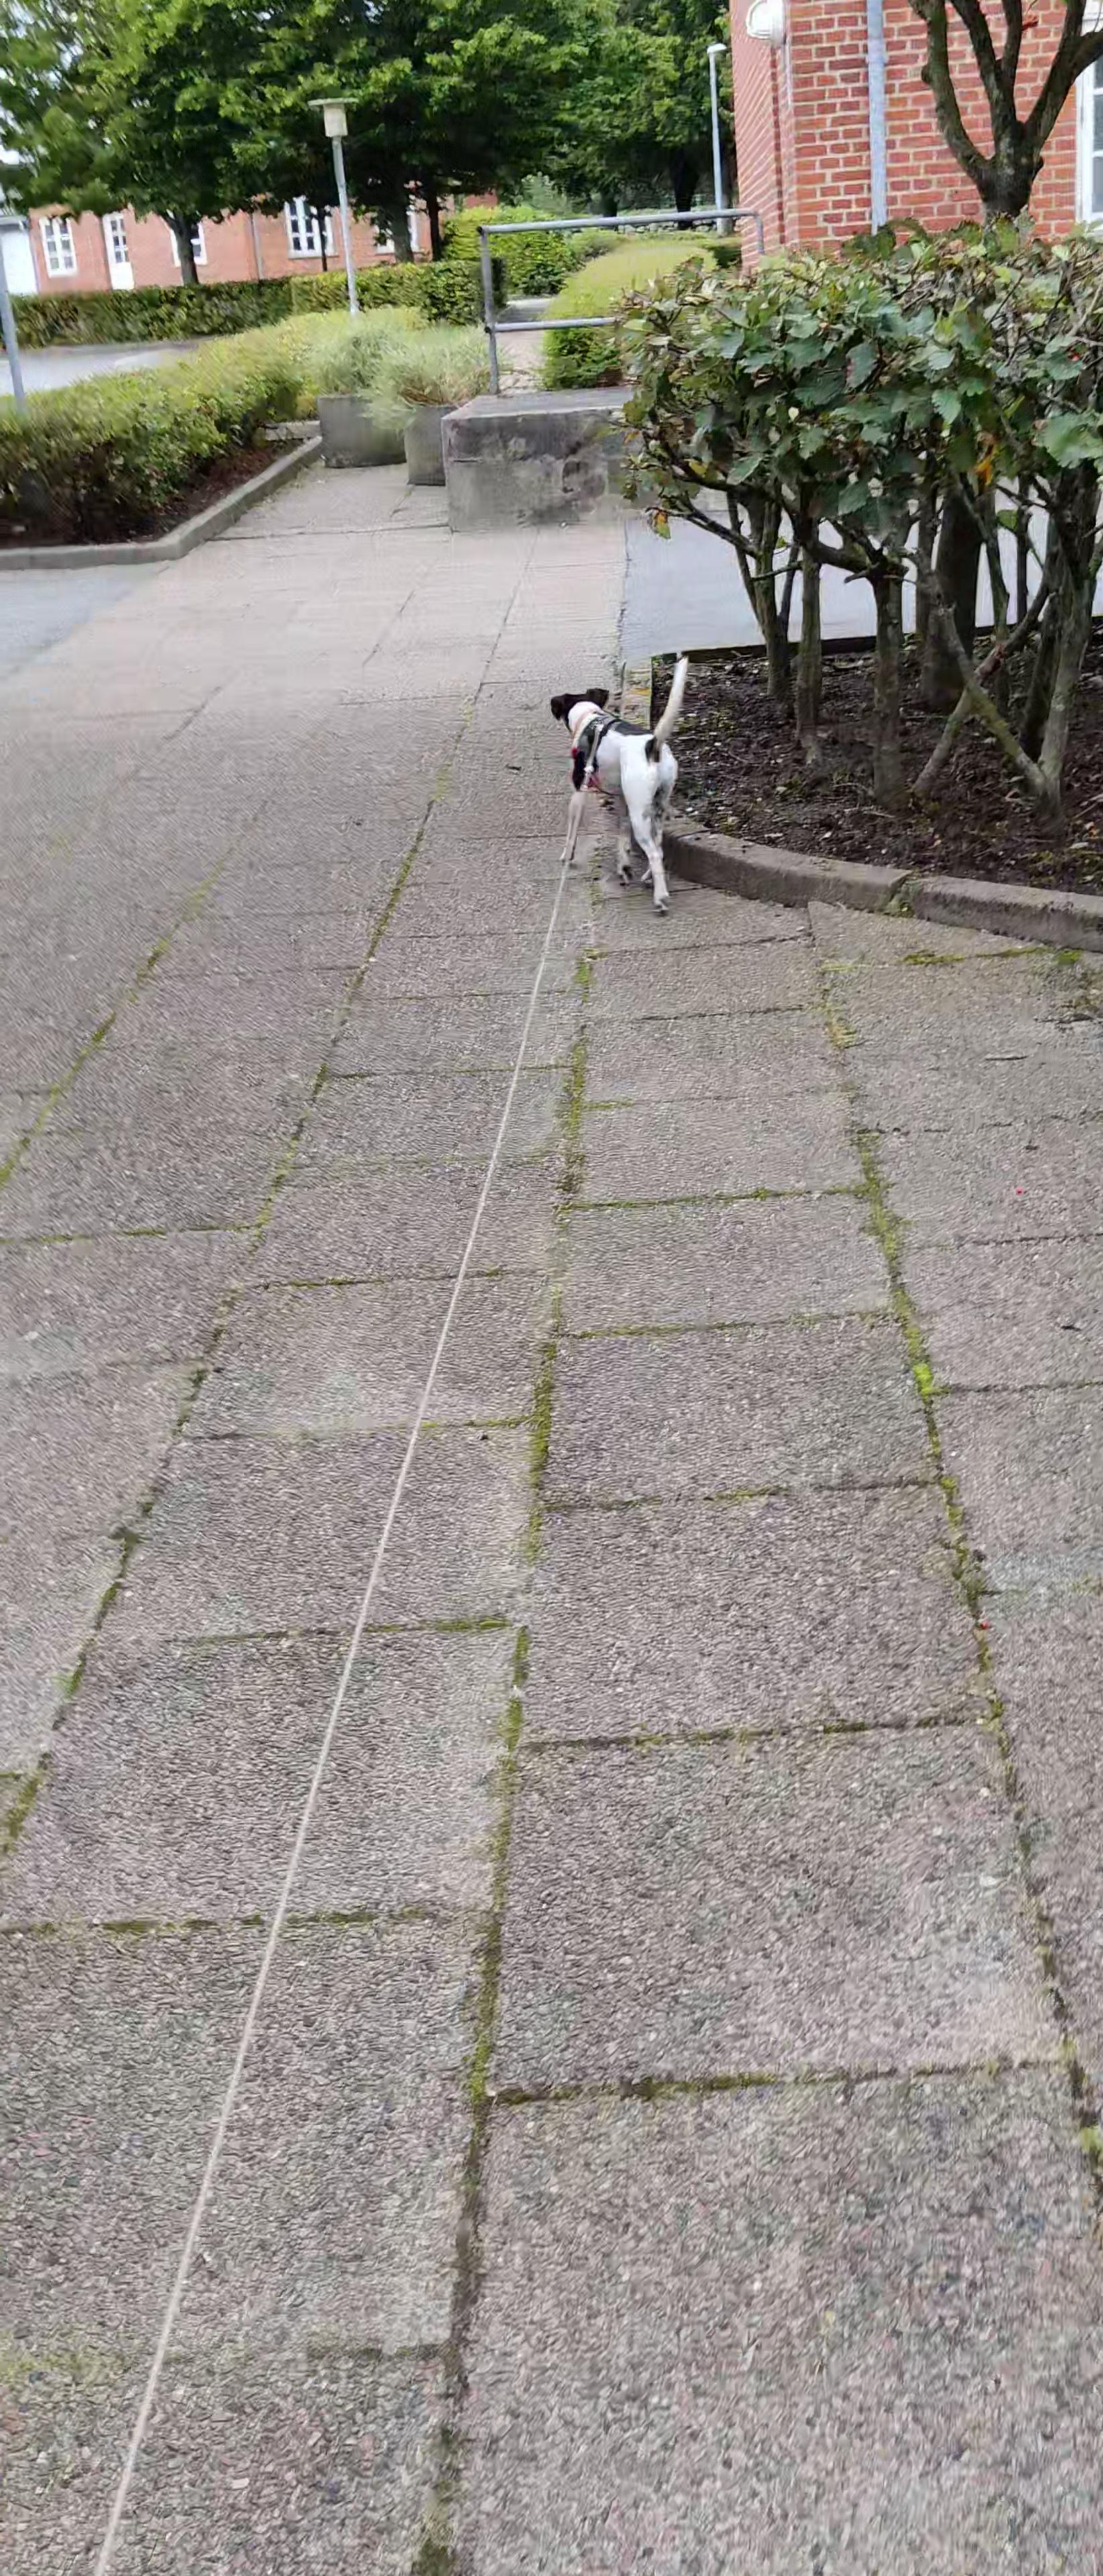Dog: (547, 654, 694, 918)
